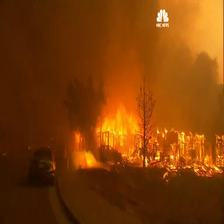fire: (64, 76, 220, 177)
